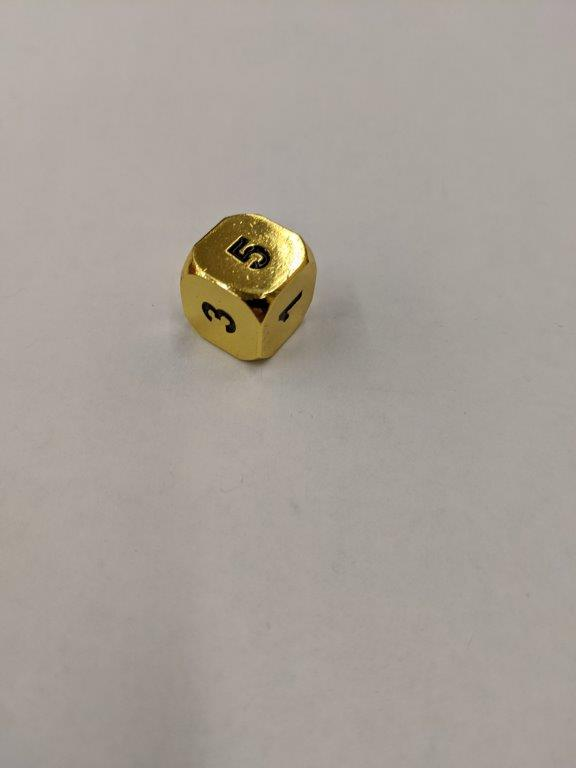d6-5: (178, 212, 316, 363)
